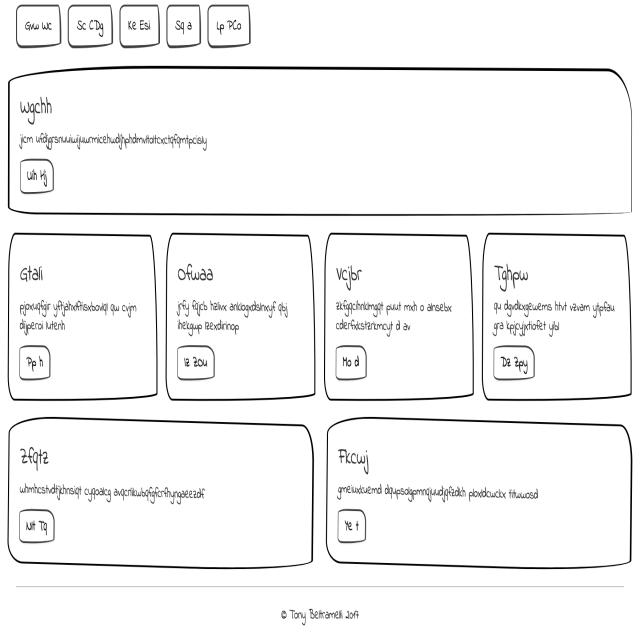Button: (488, 341, 537, 386), (15, 510, 66, 552), (173, 340, 220, 384), (331, 339, 373, 386), (15, 340, 55, 382), (332, 509, 371, 552), (16, 155, 56, 196)
Card: (5, 64, 640, 217), (6, 414, 316, 573), (324, 414, 634, 573), (323, 225, 476, 403), (482, 226, 634, 404), (5, 229, 156, 398), (165, 232, 316, 396)
Footer: (0, 582, 639, 640)
Heading 6: (15, 84, 62, 126), (491, 252, 537, 292), (336, 438, 379, 478), (333, 251, 372, 292), (15, 250, 53, 285), (176, 258, 219, 288), (15, 444, 56, 472)
Navigation Bar: (12, 2, 254, 46)
Paragraph: (334, 473, 542, 506), (13, 124, 210, 154), (18, 476, 211, 506), (173, 288, 291, 335), (11, 296, 146, 337), (335, 292, 457, 337), (491, 296, 622, 335)
